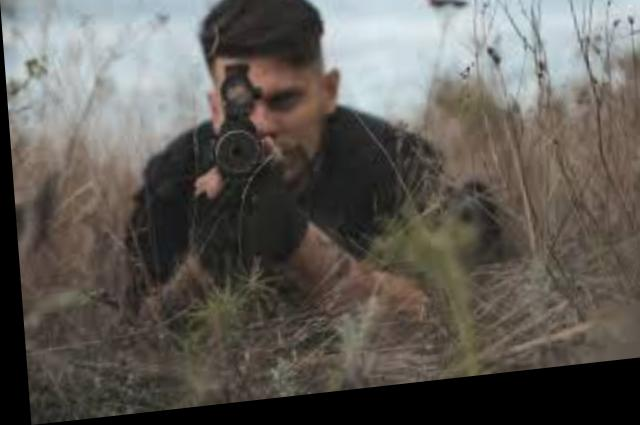other: (100, 0, 401, 295)
